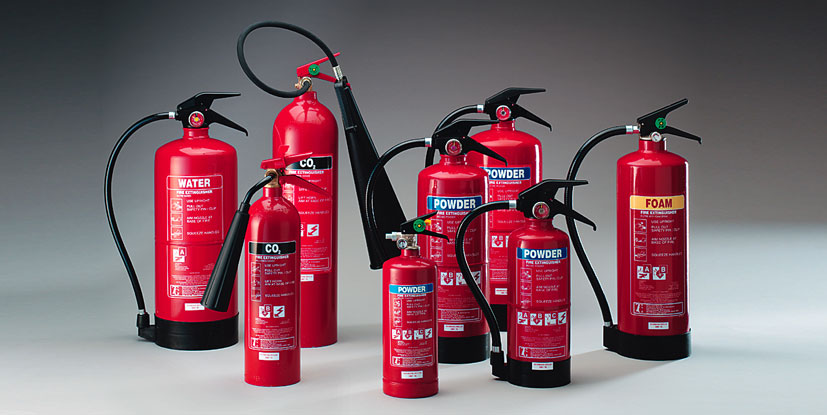fire: (565, 98, 702, 358), (104, 93, 241, 349), (201, 152, 300, 387), (272, 52, 338, 348), (508, 180, 597, 389), (468, 88, 543, 332), (417, 120, 489, 361), (383, 212, 439, 398)
